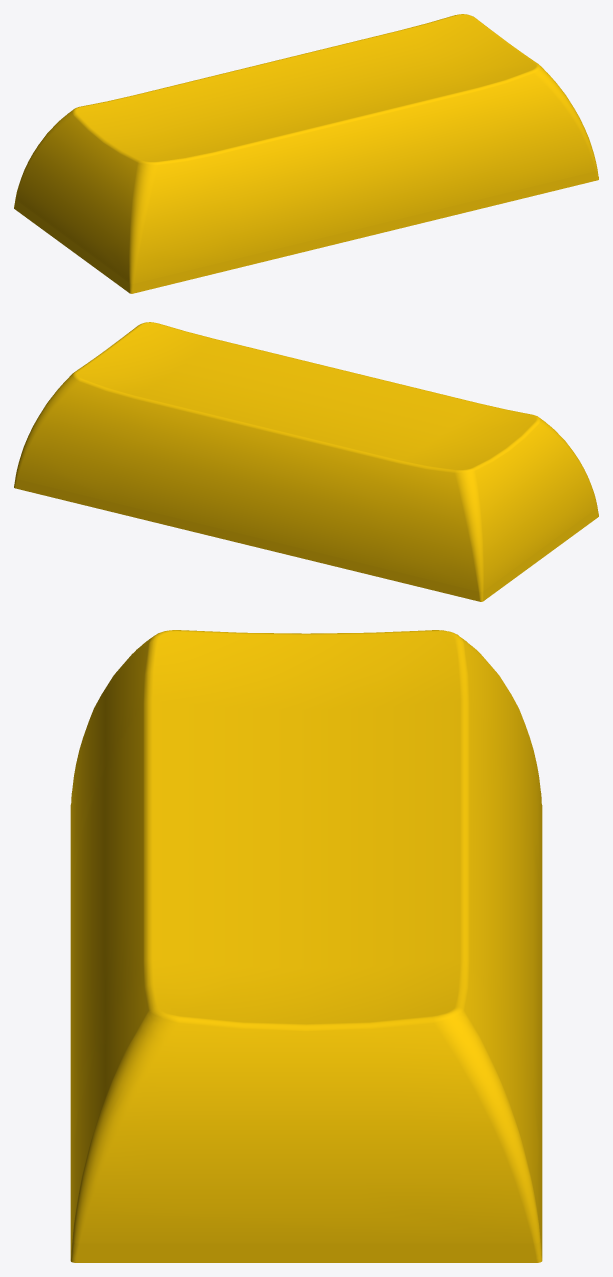
3 views of the same model, one above another, from view 1: azimuth 30°, elevation 25°; view 2: azimuth 150°, elevation 25°; view 3: azimuth 270°, elevation 25° (orthographic). The views are drawn at different scales.
Visible parts, largest first — view 1: Body36; view 2: Body36; view 3: Body36.
Part boxes in pixels (left/top/right/bottom): Body36: left=14, top=14, right=598, bottom=293; Body36: left=14, top=322, right=598, bottom=601; Body36: left=70, top=630, right=542, bottom=1262.
Size of the model in its own units: 42.06 by 9.06 by 18.31.
